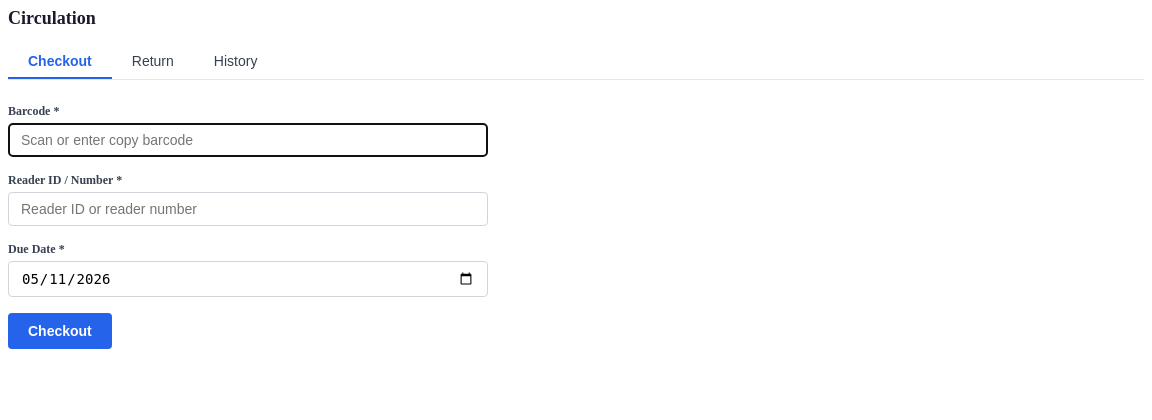
Scenario: CirculationPage › shows success message after successful checkout
Type "BARCODE-001" into the field with placeholder "Scan or enter copy barcode" at [248, 140], box [8,123,488,157]
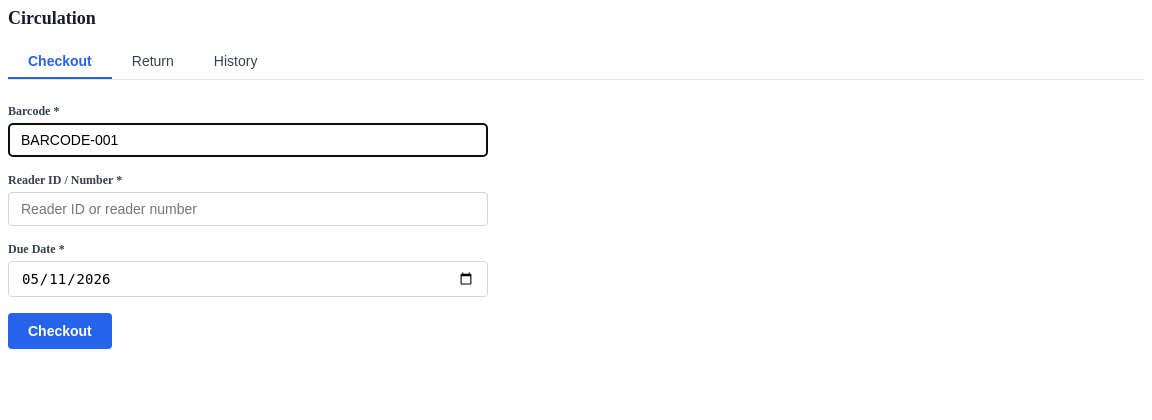
Type "reader-uuid" into the field with placeholder "Reader ID or reader number" at [248, 209], box [8,192,488,226]
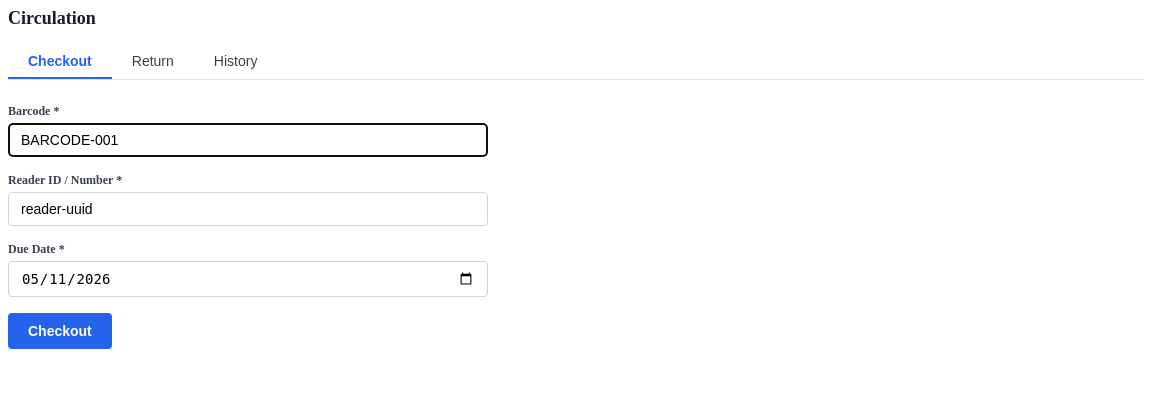
Submit the form, box [8,104,488,349]
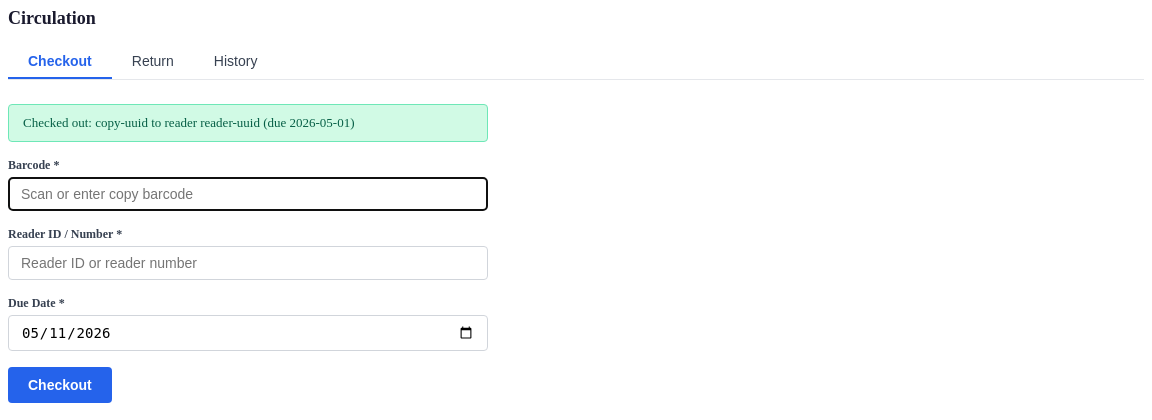
Now the text "Checked out" is shown, box [23,115,354,130]
